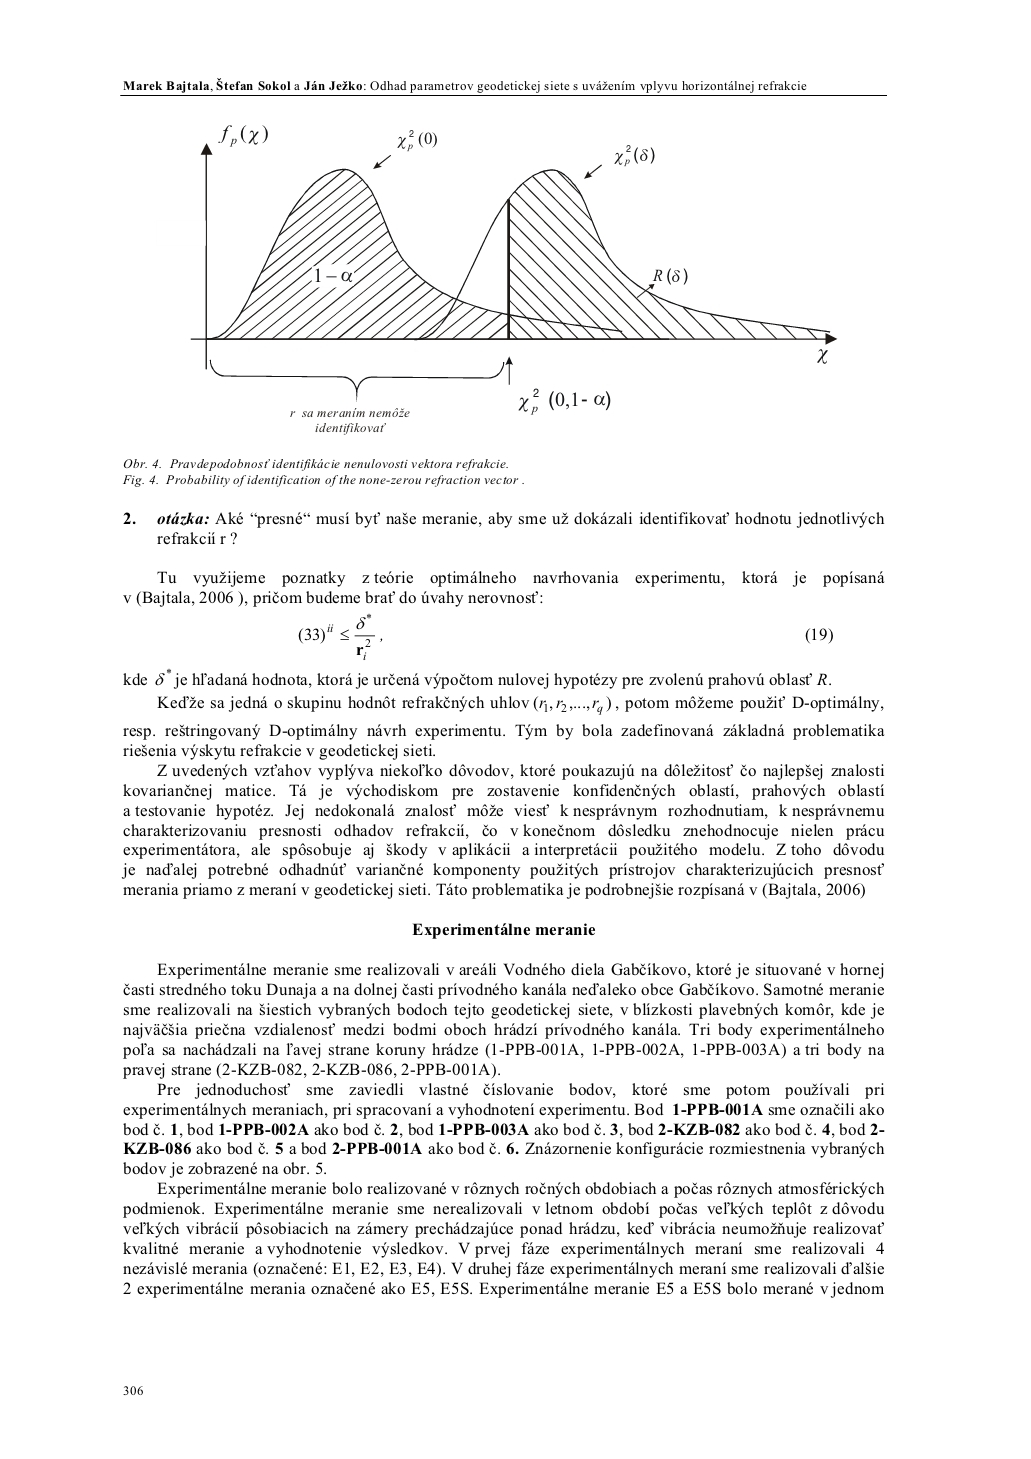figure: (190, 125, 837, 434)
formula: (298, 612, 832, 660)
